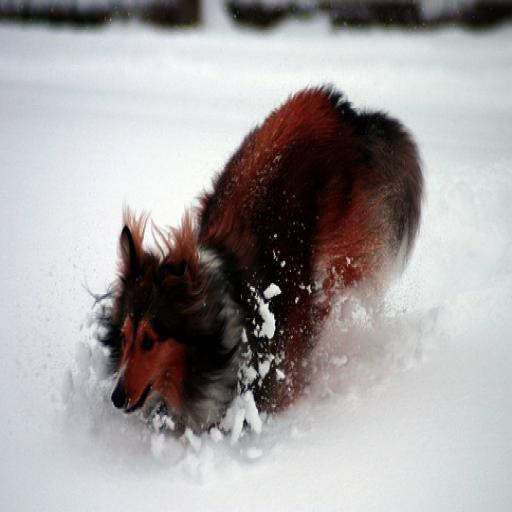dog_face: (102, 220, 194, 418)
